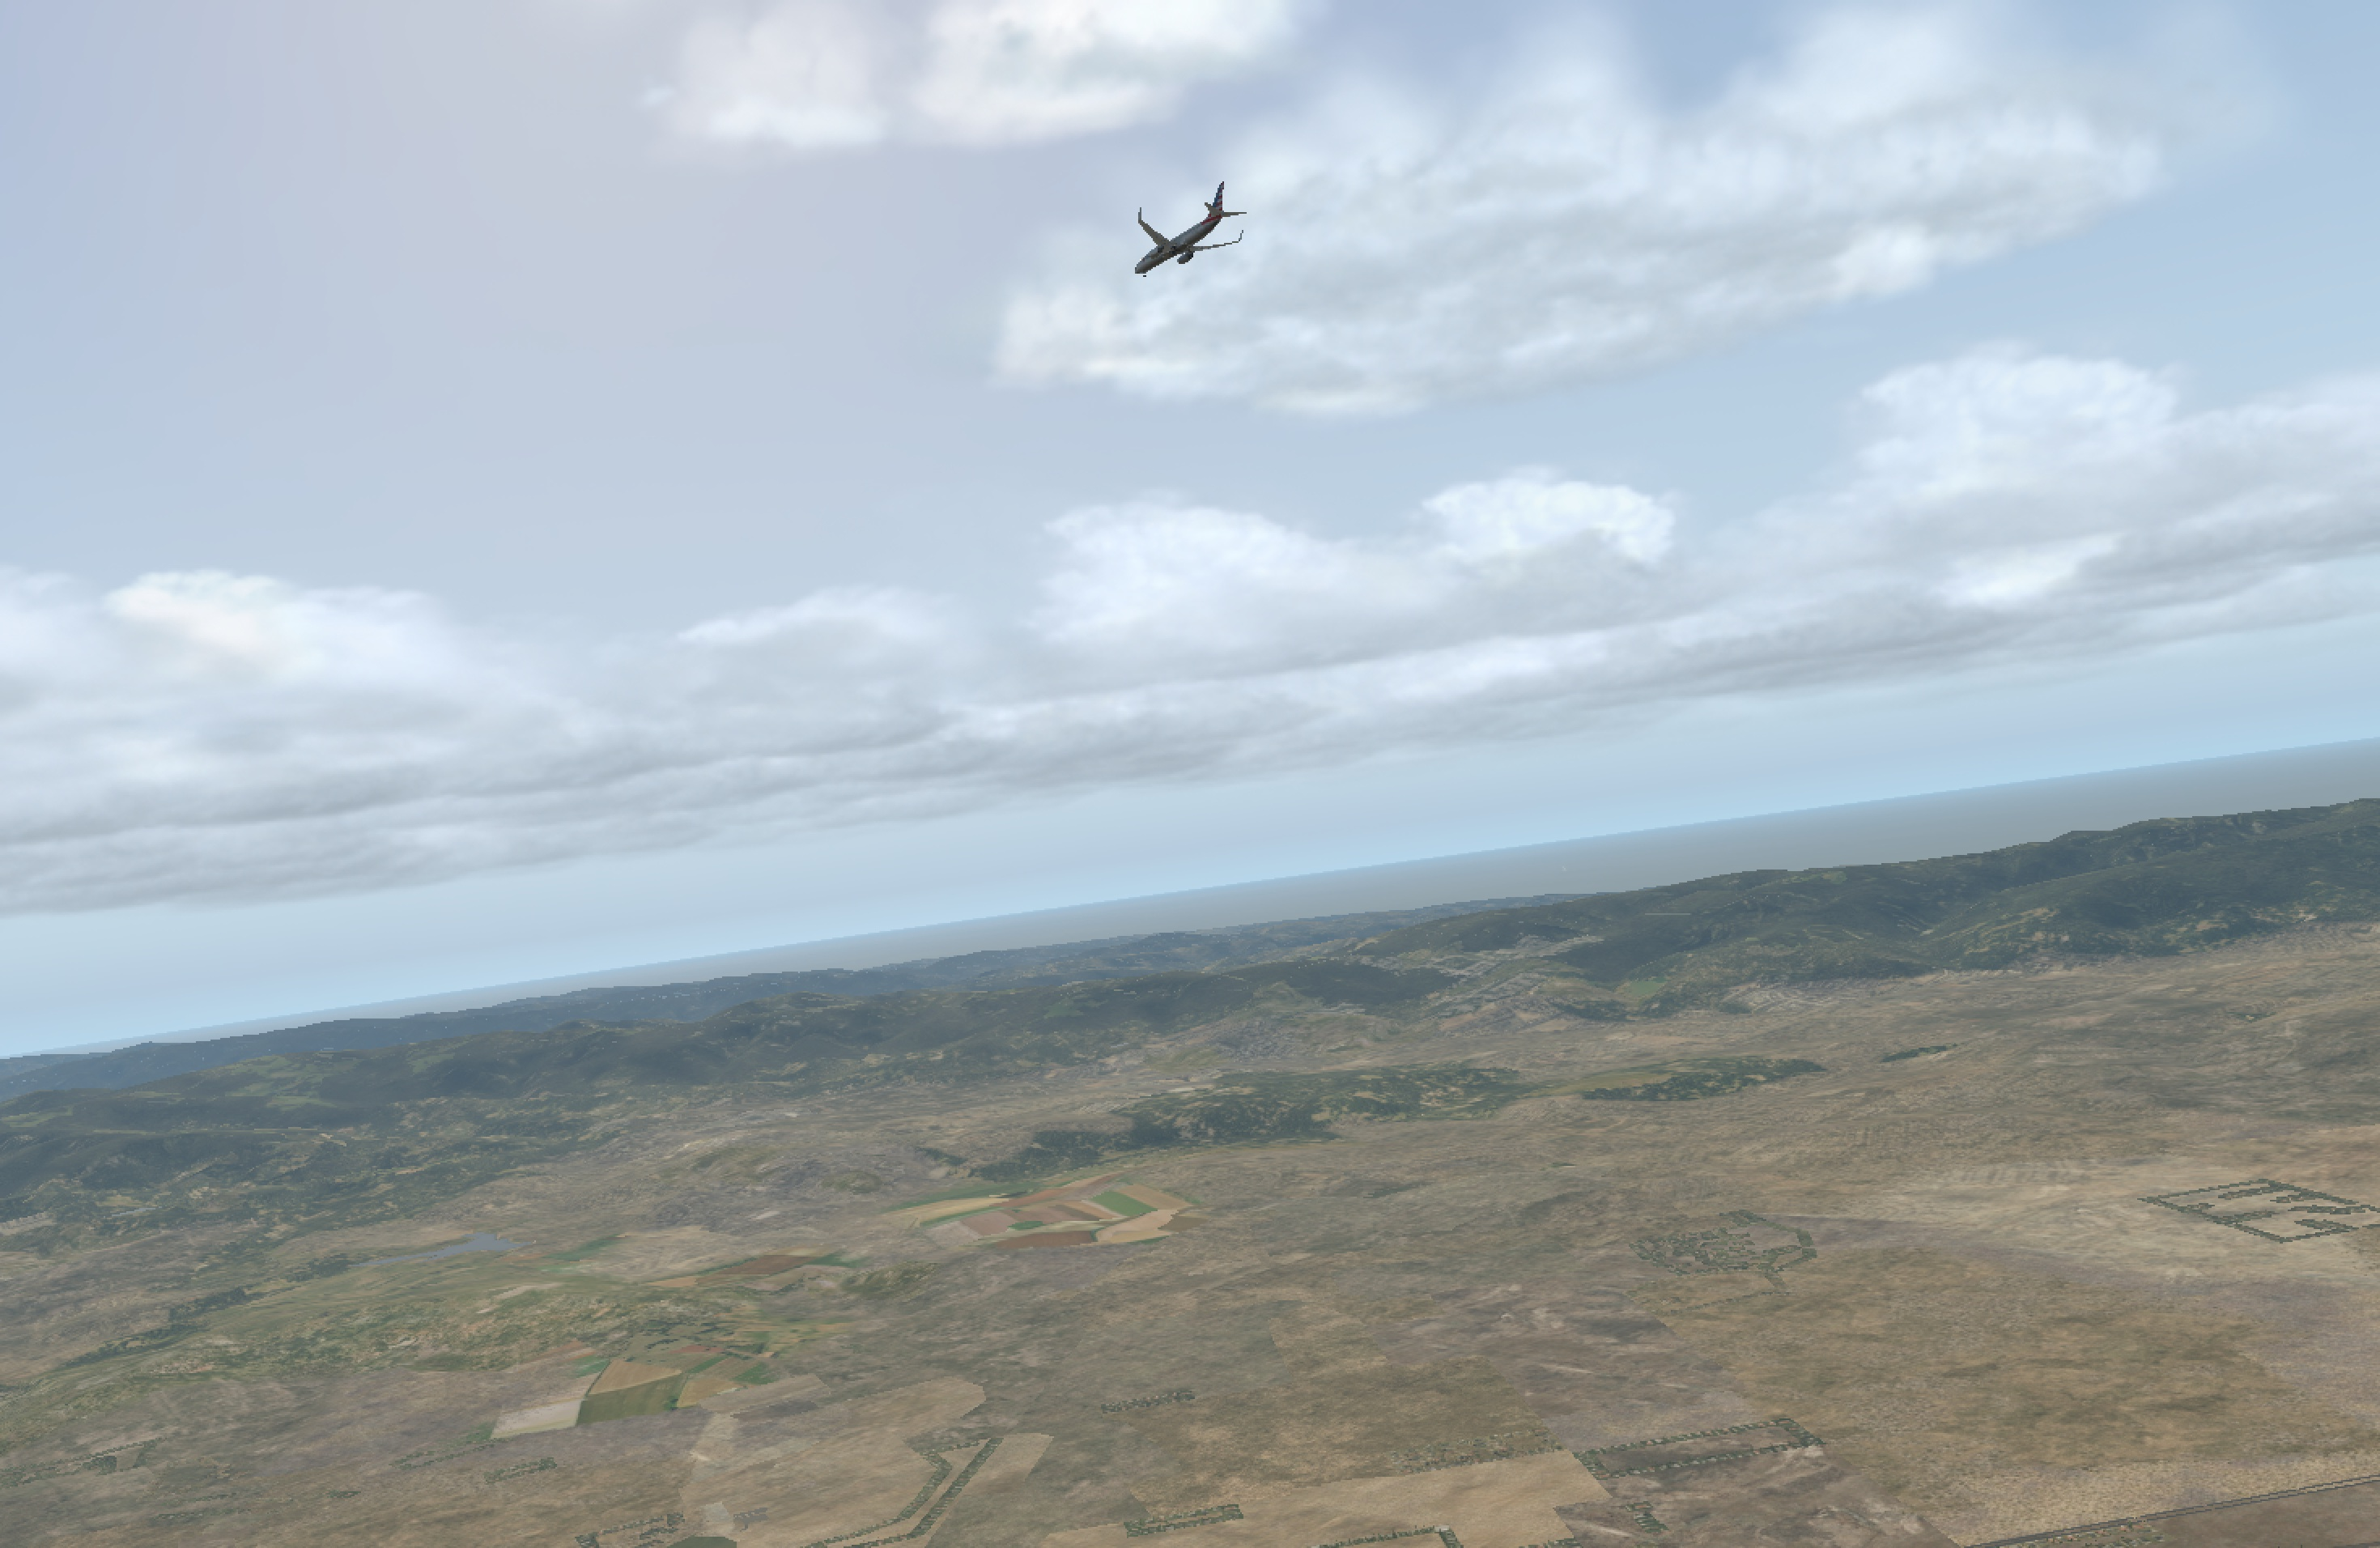aircraft: (1105, 220, 1249, 274)
